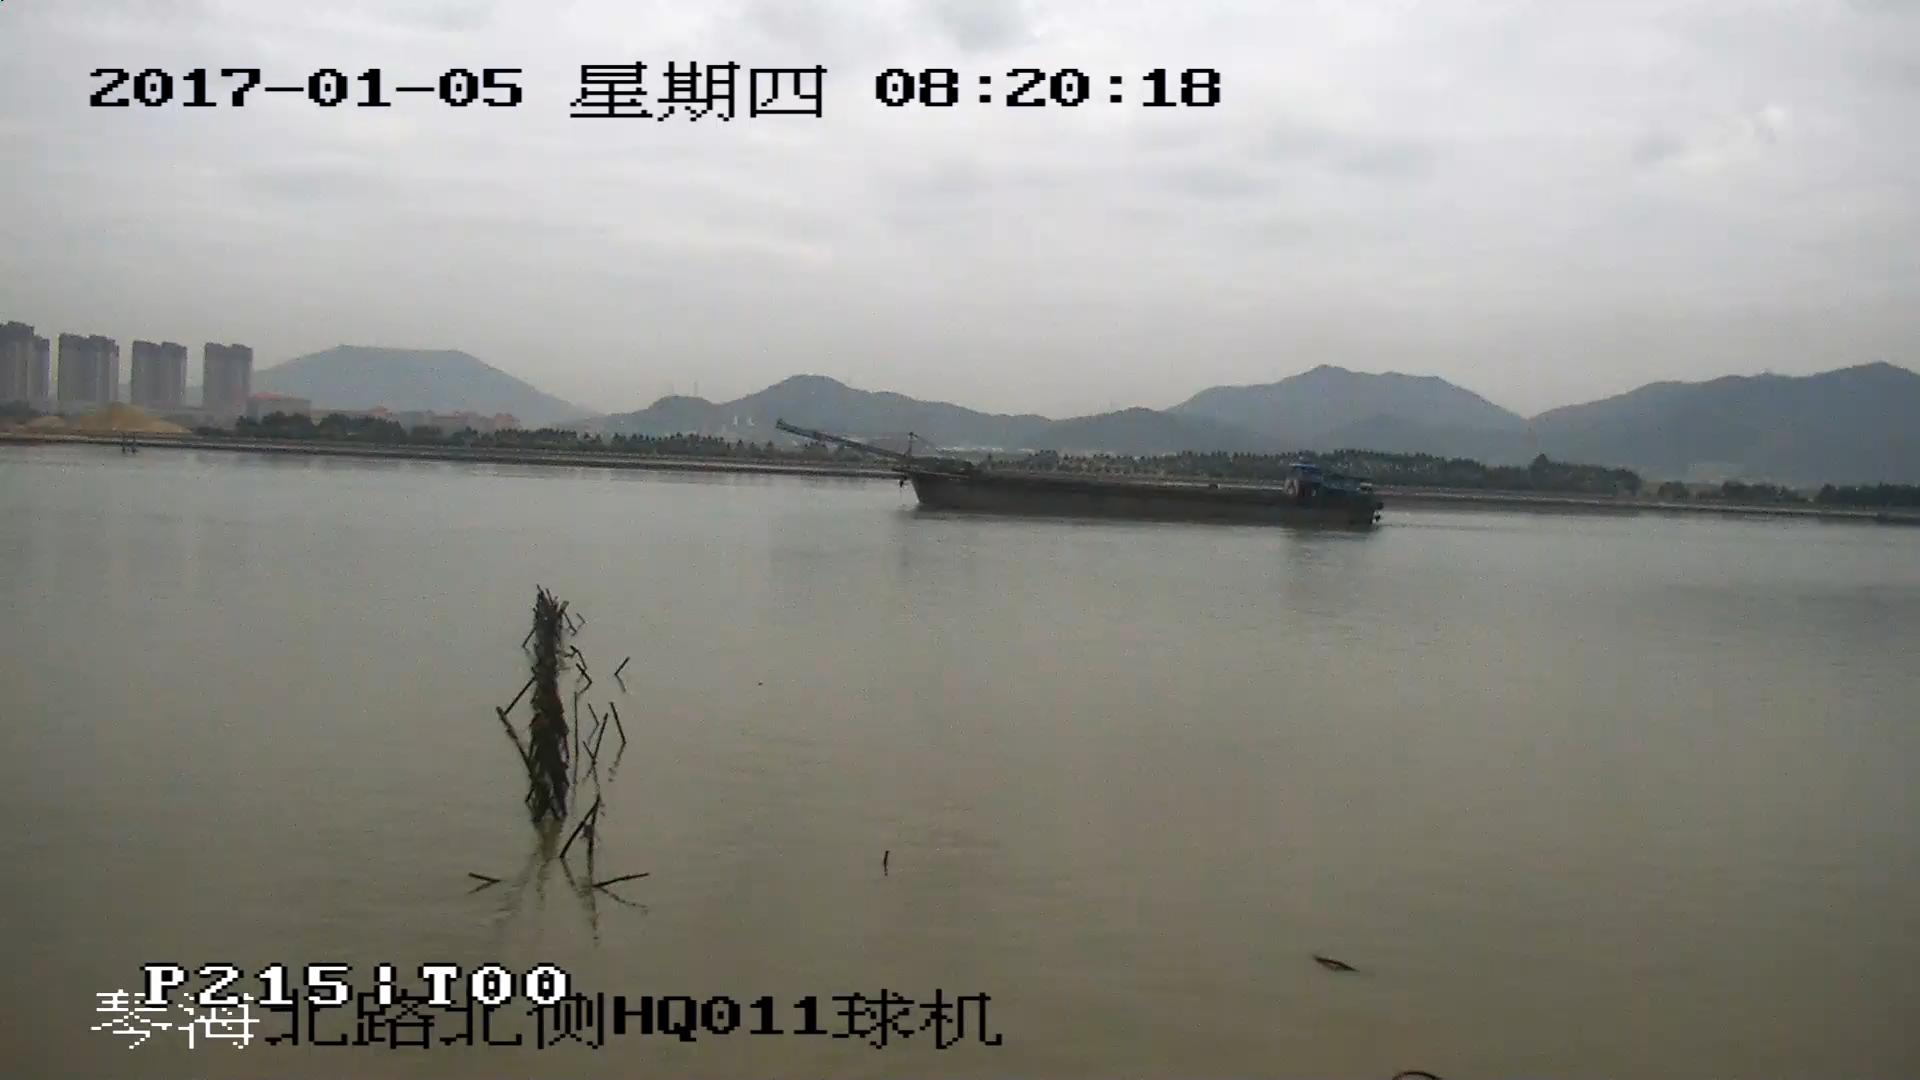bulk cargo carrier: (781, 423, 1379, 529)
